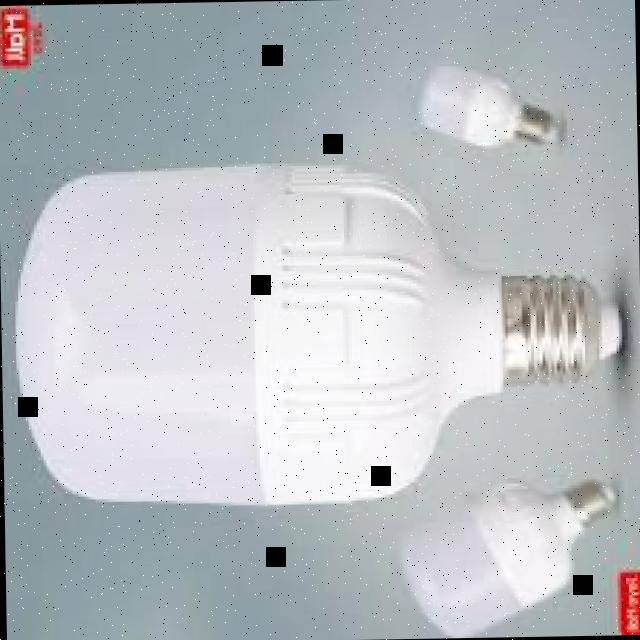light_bulb: (13, 157, 640, 528), (376, 467, 620, 639), (394, 51, 574, 170)
